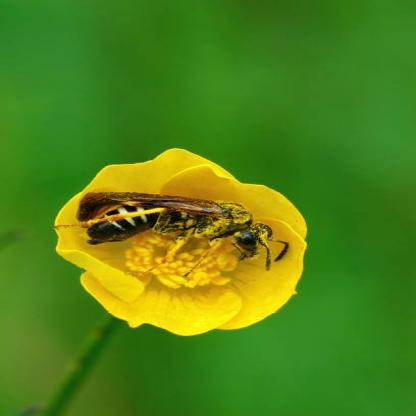sawfly: (54, 184, 294, 270)
